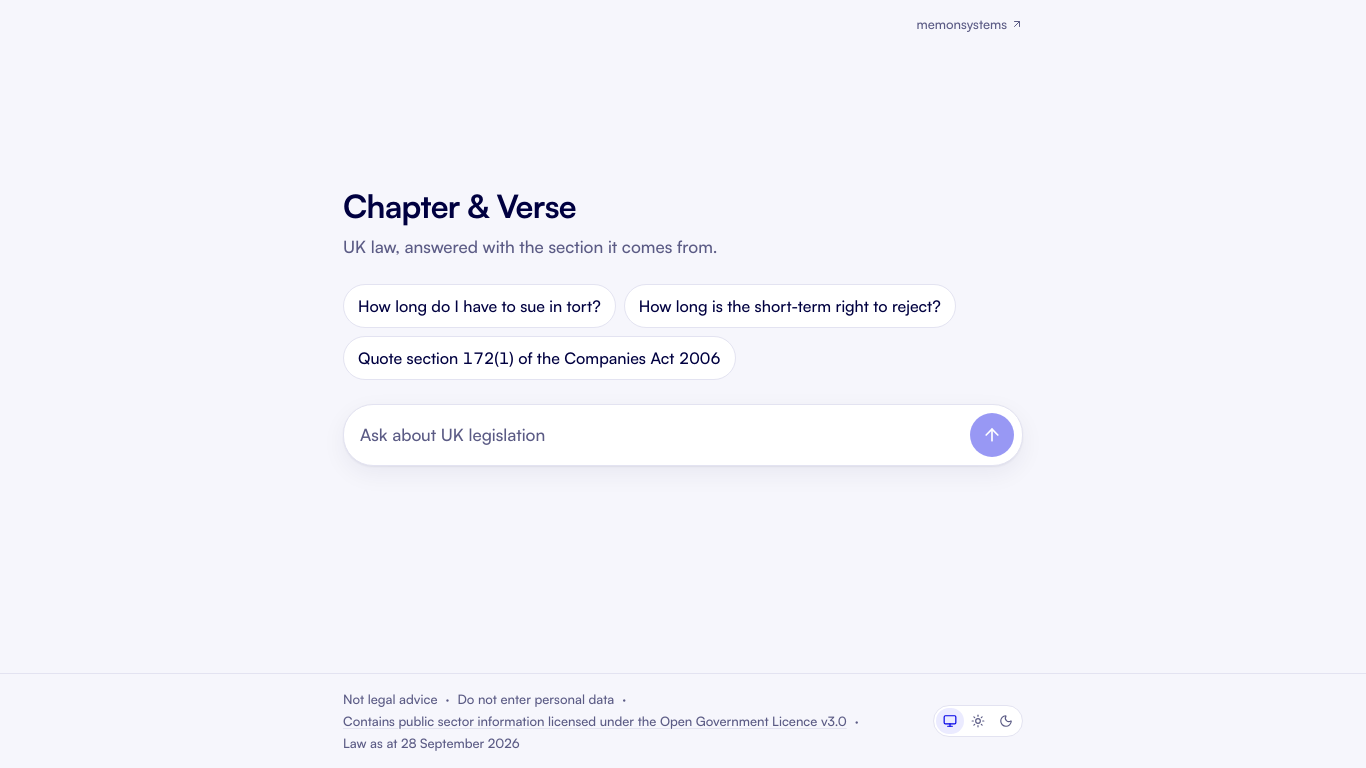
Test: Choice, Change, Retry, and Conversation State (S1-S7) › replaces a refusal turn in place when choosing a suggestion without displaying coordinates or Change for a single suggestion
Type "What does Marchwood Arbitration Act say?" into the text box with placeholder "Ask about UK legislation".
click(661, 435); type("What does Marchwood Arbitration Act say?")  # box [360, 413, 962, 457]
Then press Enter
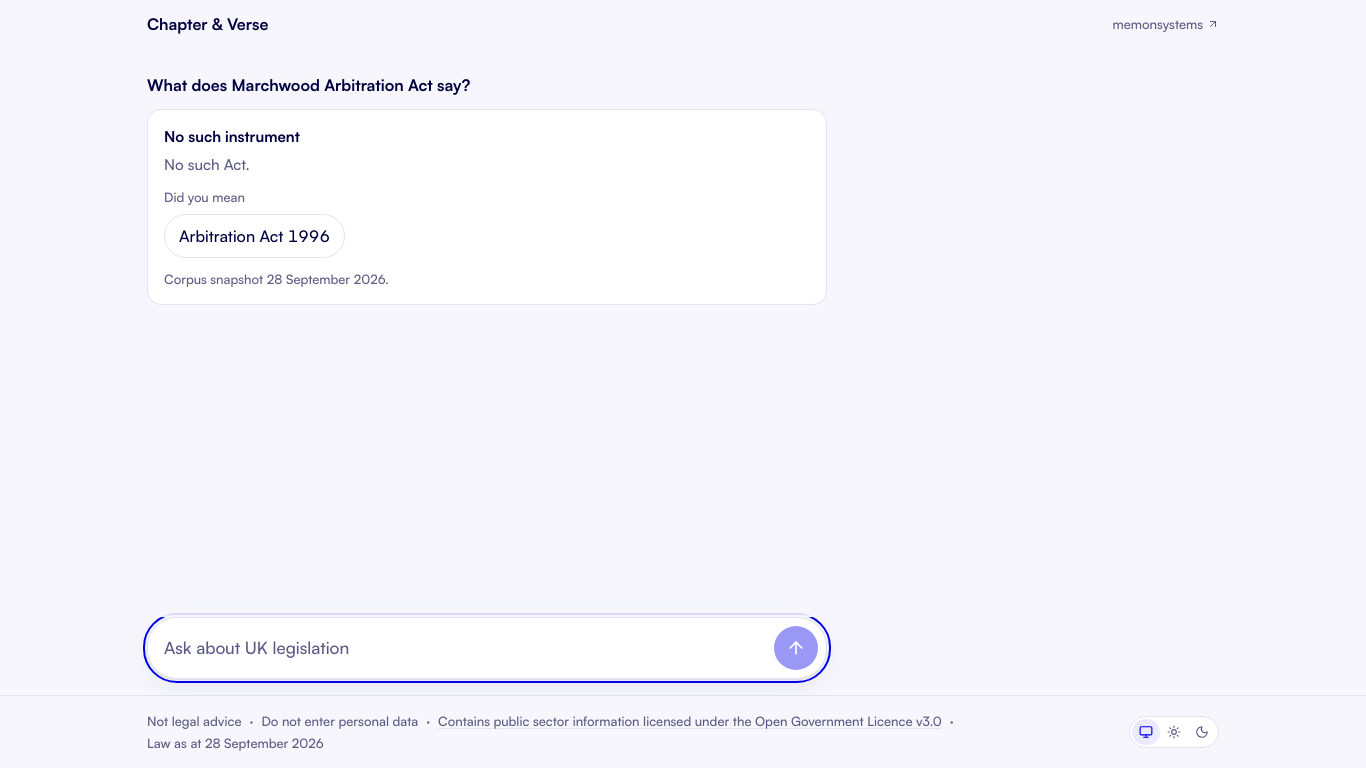
Expected: the button "Copy" is not shown
Now the text "No such Act." is shown, box [164, 155, 250, 174]
Click the button "Arbitration Act 1996".
click(254, 236)  # box [164, 214, 345, 258]
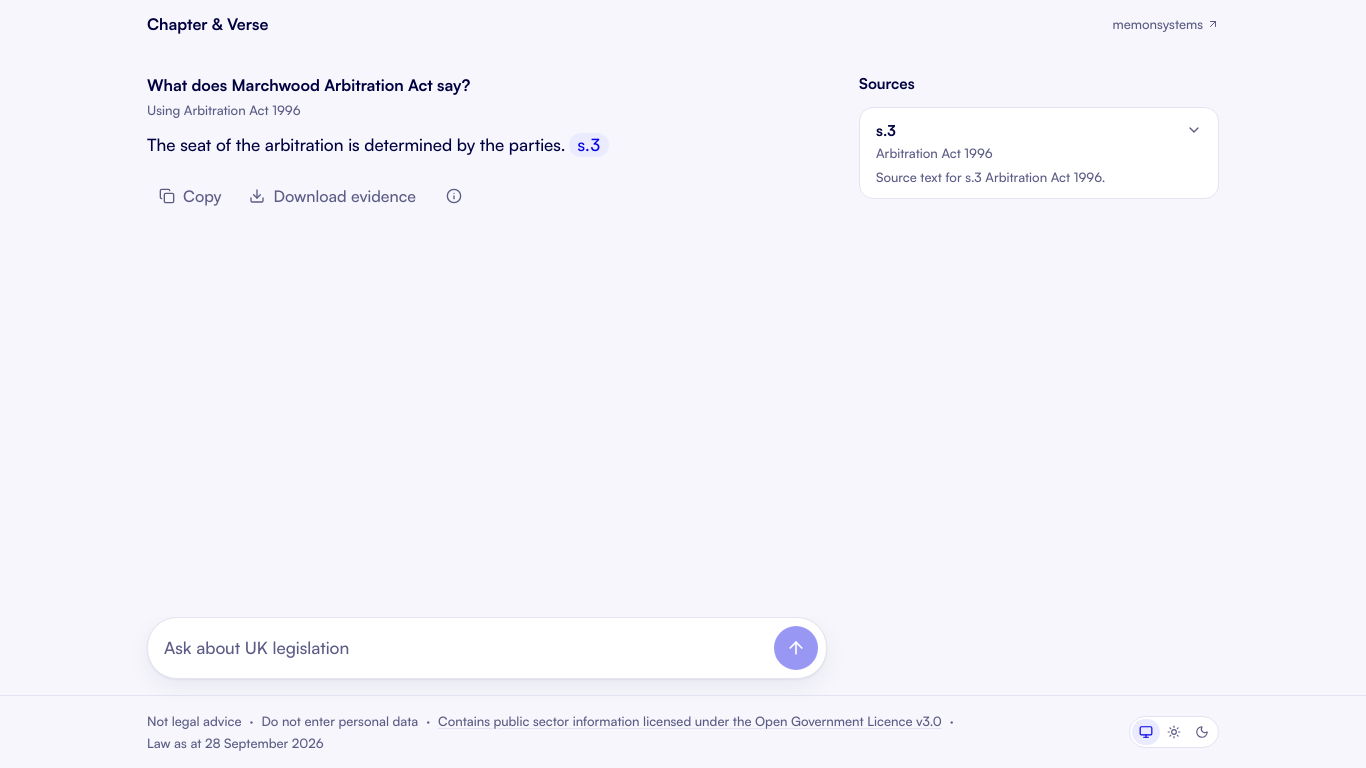
Now the number of headings "What does Marchwood Arbitration Act say?" is 1, box [146, 74, 470, 95]
Now the text "The seat of the arbitration is determined by the parties." is shown, box [147, 134, 566, 155]
